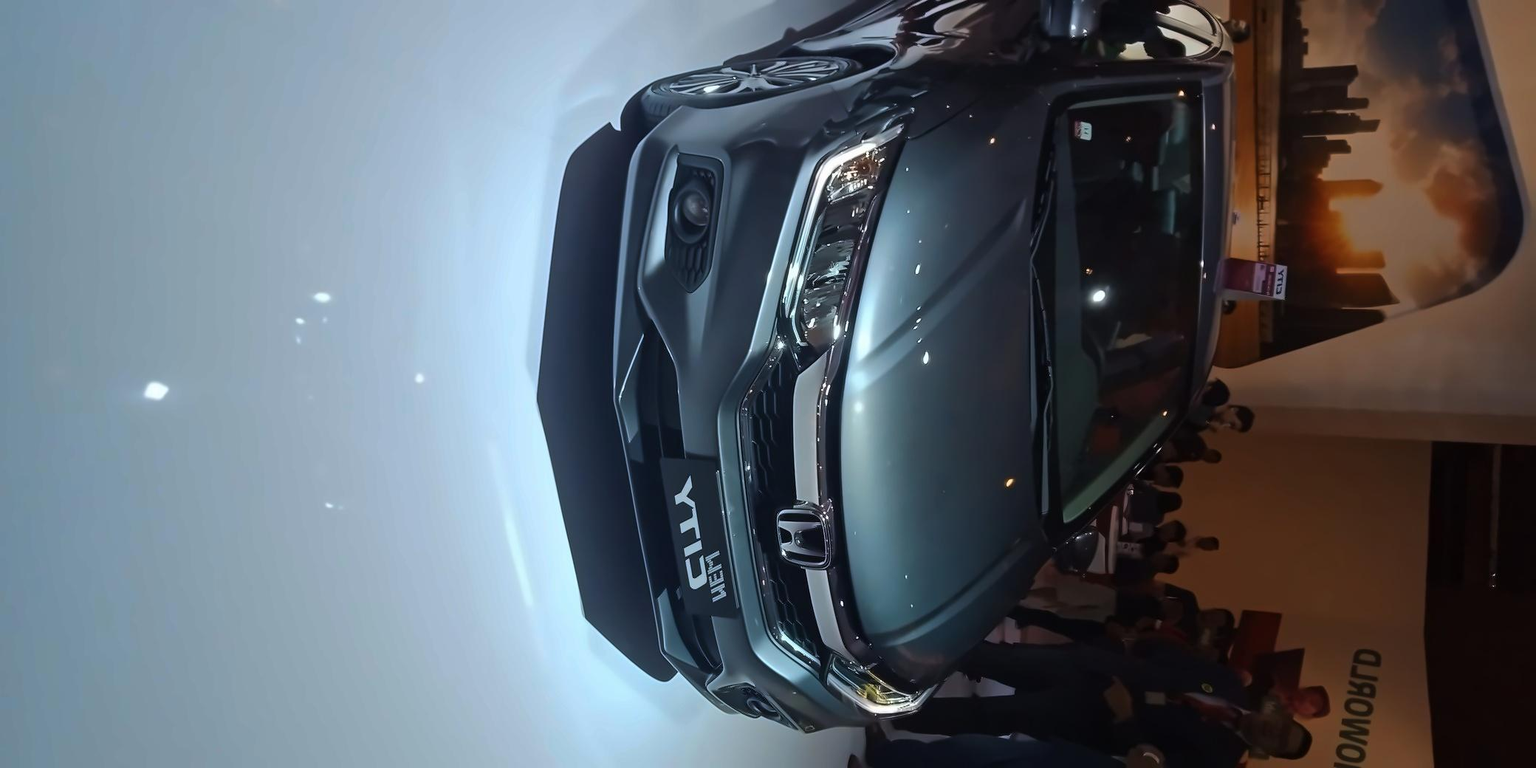Car hood: (835, 70, 1050, 699)
Front bumper: (602, 84, 840, 740)
Headlight - -L-: (816, 643, 944, 726)
Headlight - -R-: (766, 117, 912, 368)
Side mirror - -L-: (1038, 515, 1114, 584)
Side mirror - -R-: (1030, 0, 1108, 56)
